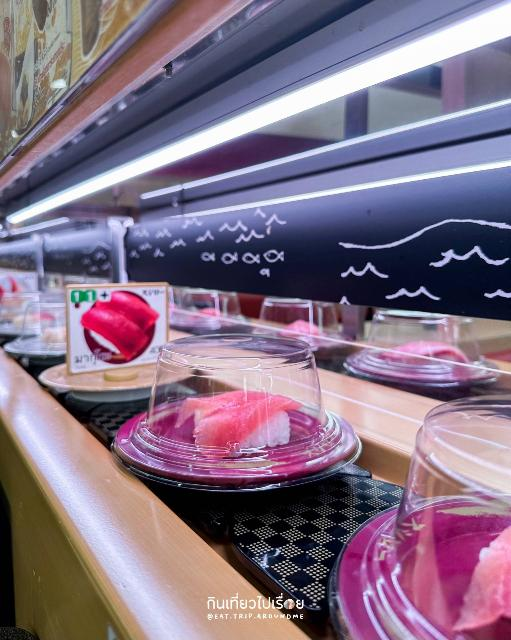janred: (335, 478, 511, 639), (132, 400, 344, 508), (330, 326, 511, 399), (241, 319, 364, 368)
janwhite: (0, 326, 94, 363)
